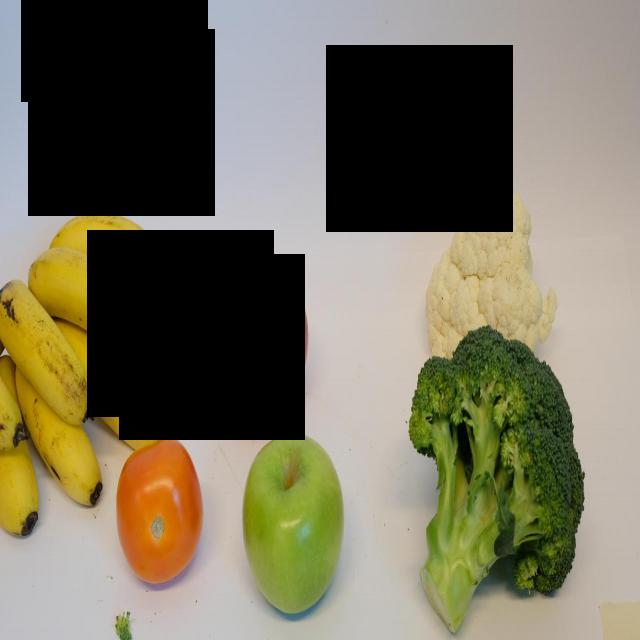apple: (240, 420, 344, 629), (219, 251, 316, 425)
banana: (48, 206, 192, 324), (57, 308, 175, 449), (26, 243, 157, 369), (0, 276, 95, 436), (17, 357, 105, 516)
broccoli: (406, 334, 588, 638)
cauliflower: (421, 178, 561, 371)
tomato: (120, 433, 202, 591)
